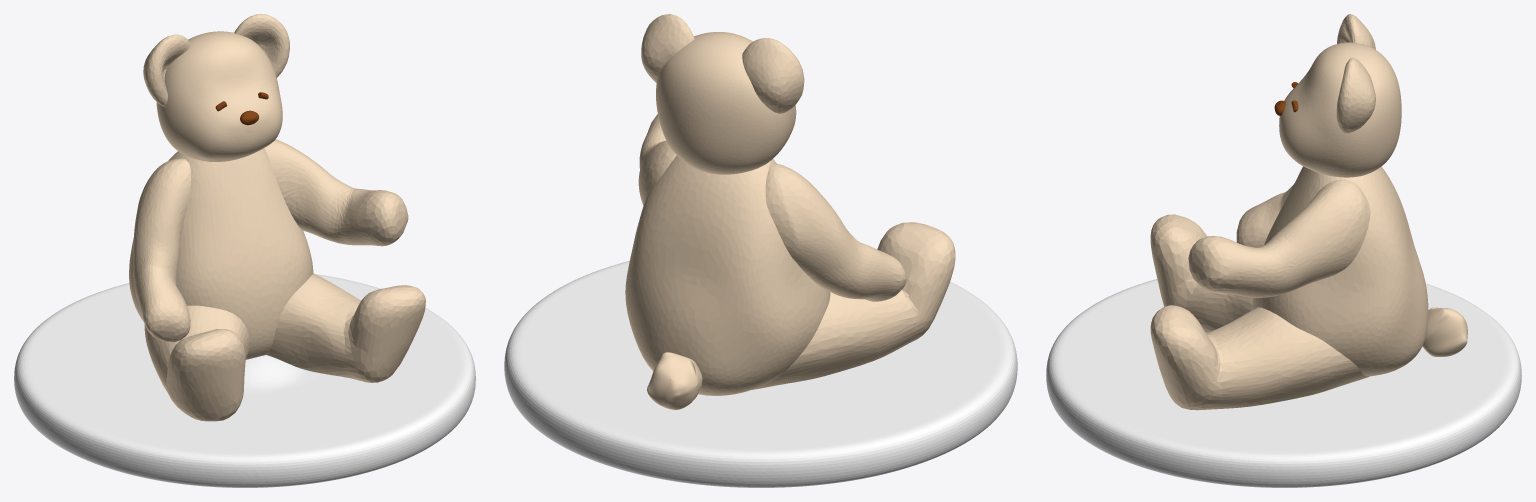
Rendered from tesrbear2.glb.
3 renders of one model, left to right at view 1: azimuth 30°, elevation 25°; view 2: azimuth 150°, elevation 25°; view 3: azimuth 270°, elevation 25°, orthographic. The views are drawn at different scales.
Visible parts, largest first — view 1: 원판, 다리, 몸통, 쿼드 구체, 팔, 팔 1, 원통; view 2: 원판, 몸통, 쿼드 구체 (×2), 다리, 팔 1, 원통, 팔; view 3: 원판, 다리, 몸통, 쿼드 구체 (×2), 팔, 원통, 팔 1.
Part boxes in pixels (box(x1,y1,x2,y2)): 원판: box(14, 274, 475, 487); 다리: box(144, 273, 425, 421); 몸통: box(129, 148, 313, 359); 쿼드 구체: box(156, 31, 282, 161); 팔: box(264, 139, 408, 246); 팔 1: box(133, 158, 191, 342); 원통: box(143, 14, 289, 106); 원판: box(504, 261, 1017, 487); 몸통: box(625, 155, 830, 395); 쿼드 구체 (×2): box(647, 32, 796, 409); 다리: box(752, 222, 955, 389); 팔 1: box(765, 163, 906, 301); 원통: box(641, 14, 804, 113); 팔: box(638, 114, 676, 205); 원판: box(1046, 279, 1521, 487); 다리: box(1150, 214, 1369, 410); 몸통: box(1252, 166, 1428, 376); 쿼드 구체 (×2): box(1279, 42, 1467, 356); 팔: box(1188, 179, 1370, 297); 원통: box(1336, 14, 1375, 133); 팔 1: box(1236, 166, 1303, 247).
Bounding box in the file's own units: 2.88 × 2.37 × 2.88.
